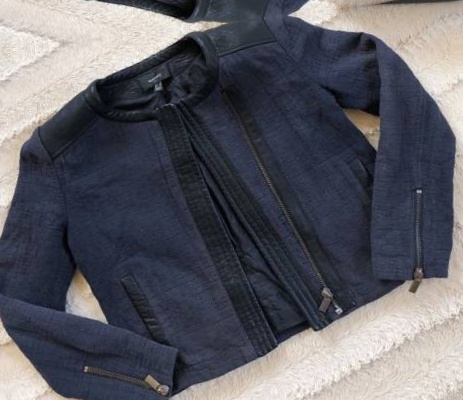Blazer: (0, 1, 463, 400), (0, 0, 440, 50), (0, 61, 9, 400)
